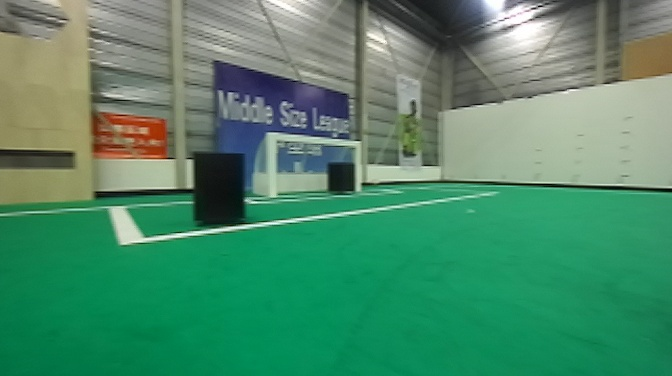goalpost: (266, 133, 277, 199), (353, 140, 364, 193)
